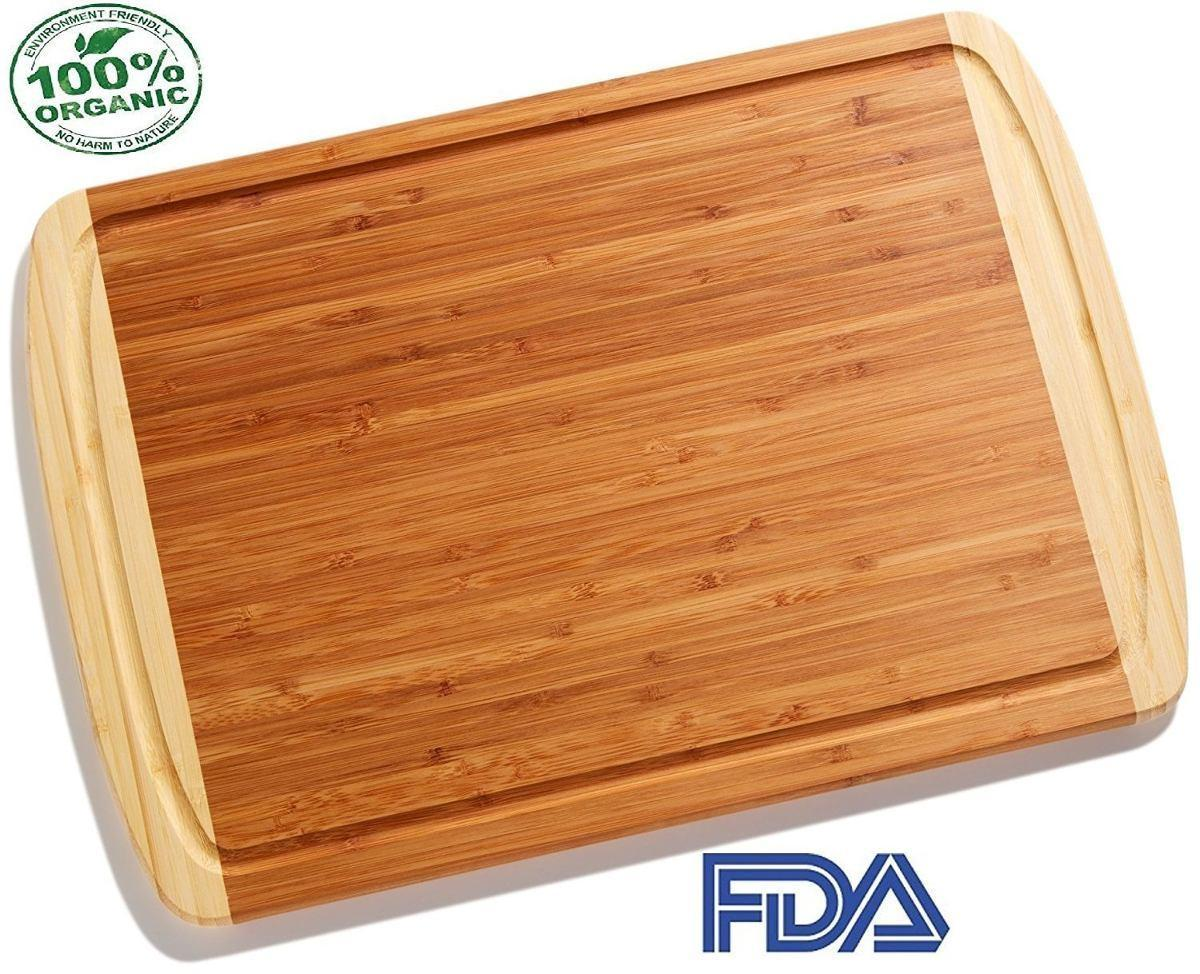gloved_hand: (8, 8, 1193, 933)
